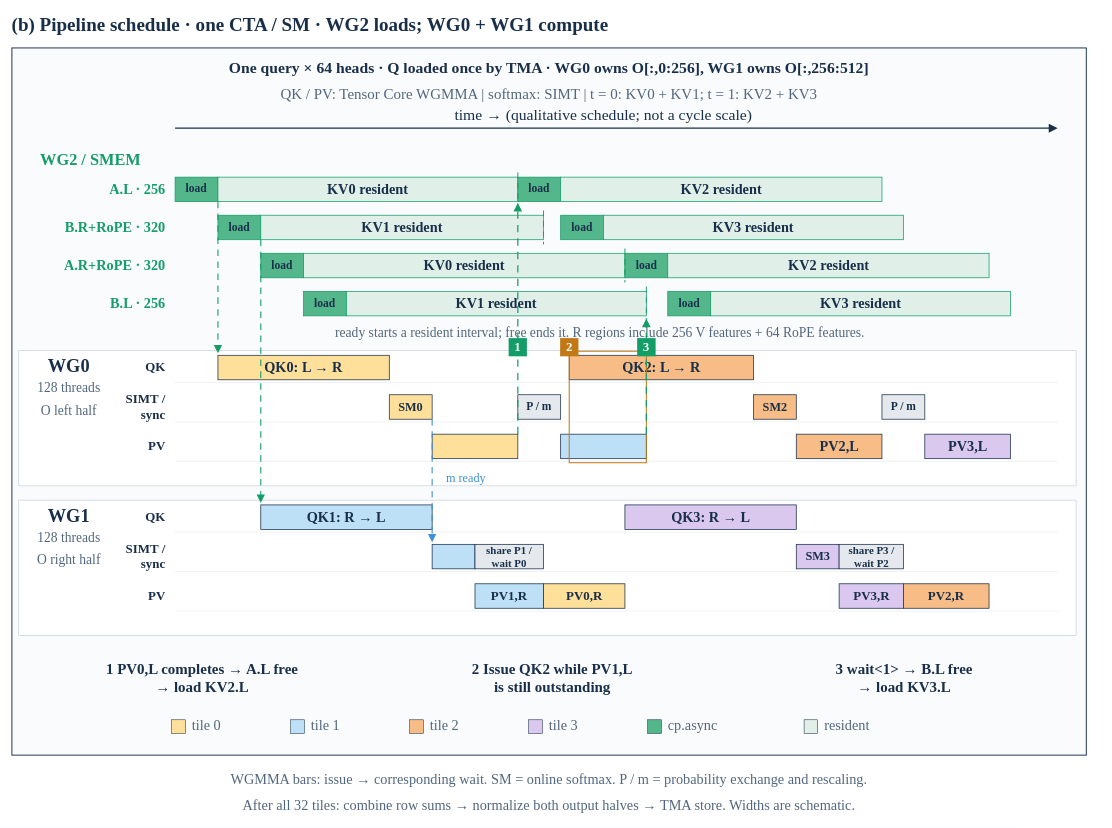
Image size: 1112x828. Some labels were removed from this diagram. Here are the shapes that lost their labels. From the top down, the centre of each, then its label:
At (474,446): "PV0,L".
At (603,446): "PV1,L".
At (453,556): "SM1".
